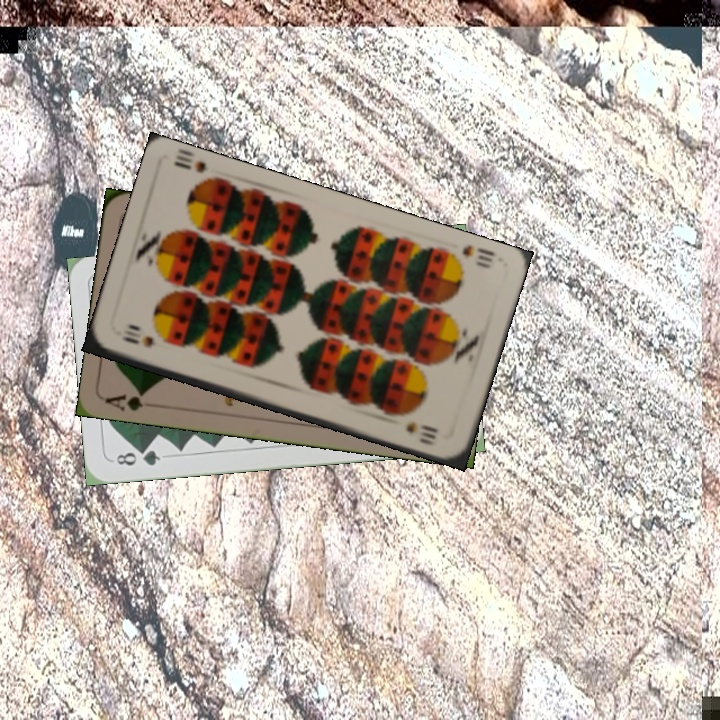G8: (112, 445, 163, 469)
GA: (103, 387, 148, 413)
S10: (458, 240, 497, 271), (117, 326, 158, 351)
